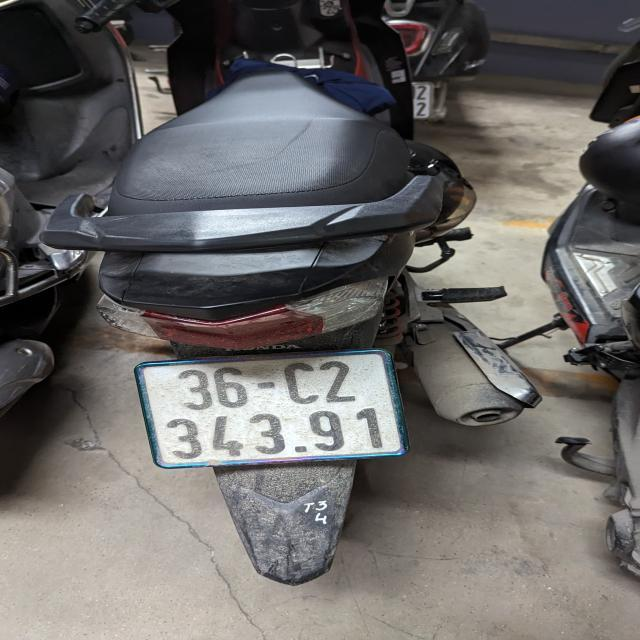license: (133, 347, 410, 469)
